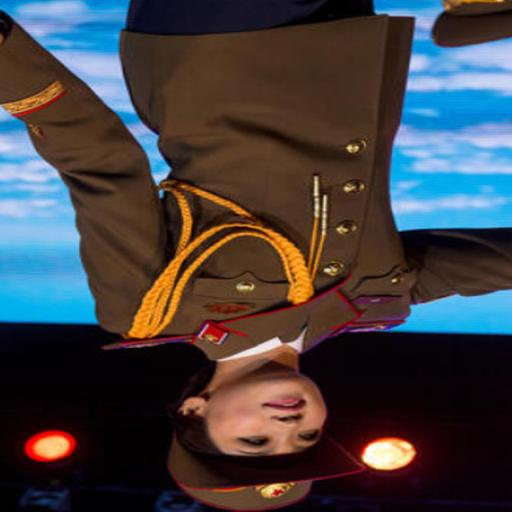north army: (2, 6, 441, 512)
